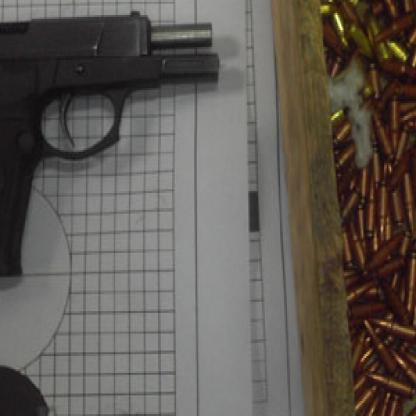gun: (0, 4, 229, 292)
